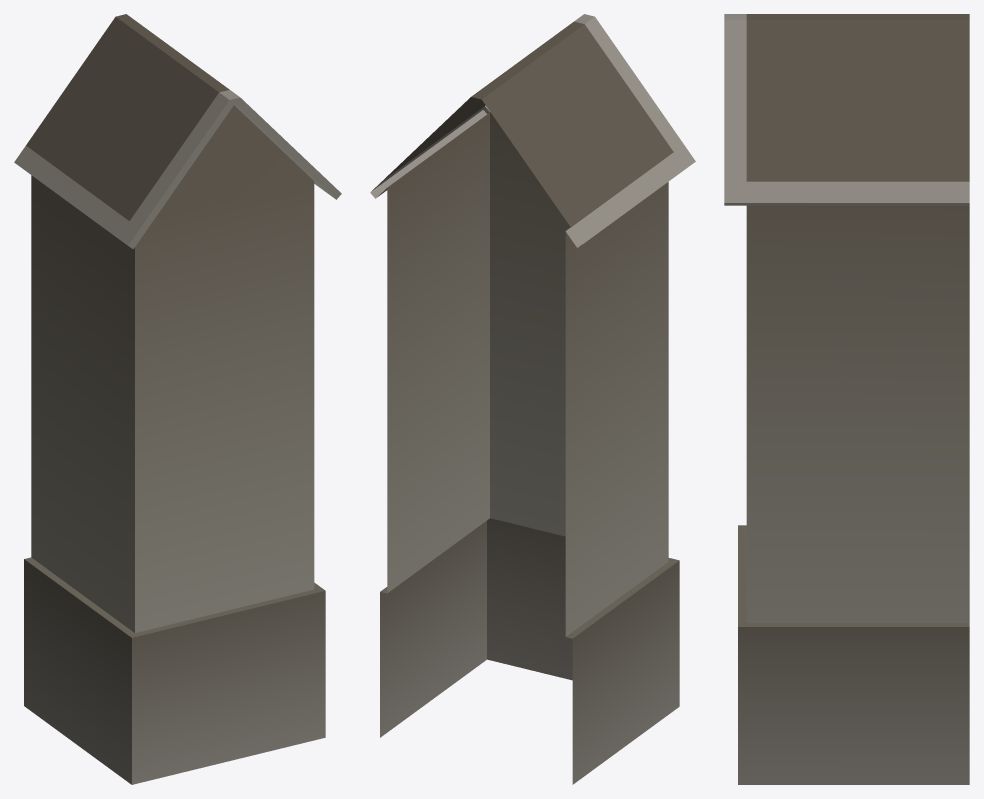
The model's file is Front_G.fbx.
The picture shows the model from 3 angles, left to right: view 1: azimuth 30°, elevation 25°; view 2: azimuth 150°, elevation 25°; view 3: azimuth 270°, elevation 25°; orthographic projection. The views are drawn at different scales.
Parts seen in each view (by area): view 1: Front_G; view 2: Front_G; view 3: Front_G.
Part boxes in pixels (x1=…): Front_G: x1=14, y1=14, x2=341, y2=784; Front_G: x1=370, y1=14, x2=695, y2=784; Front_G: x1=724, y1=14, x2=969, y2=784.
Bounding box in the file's own units: 298 × 888 × 275.
